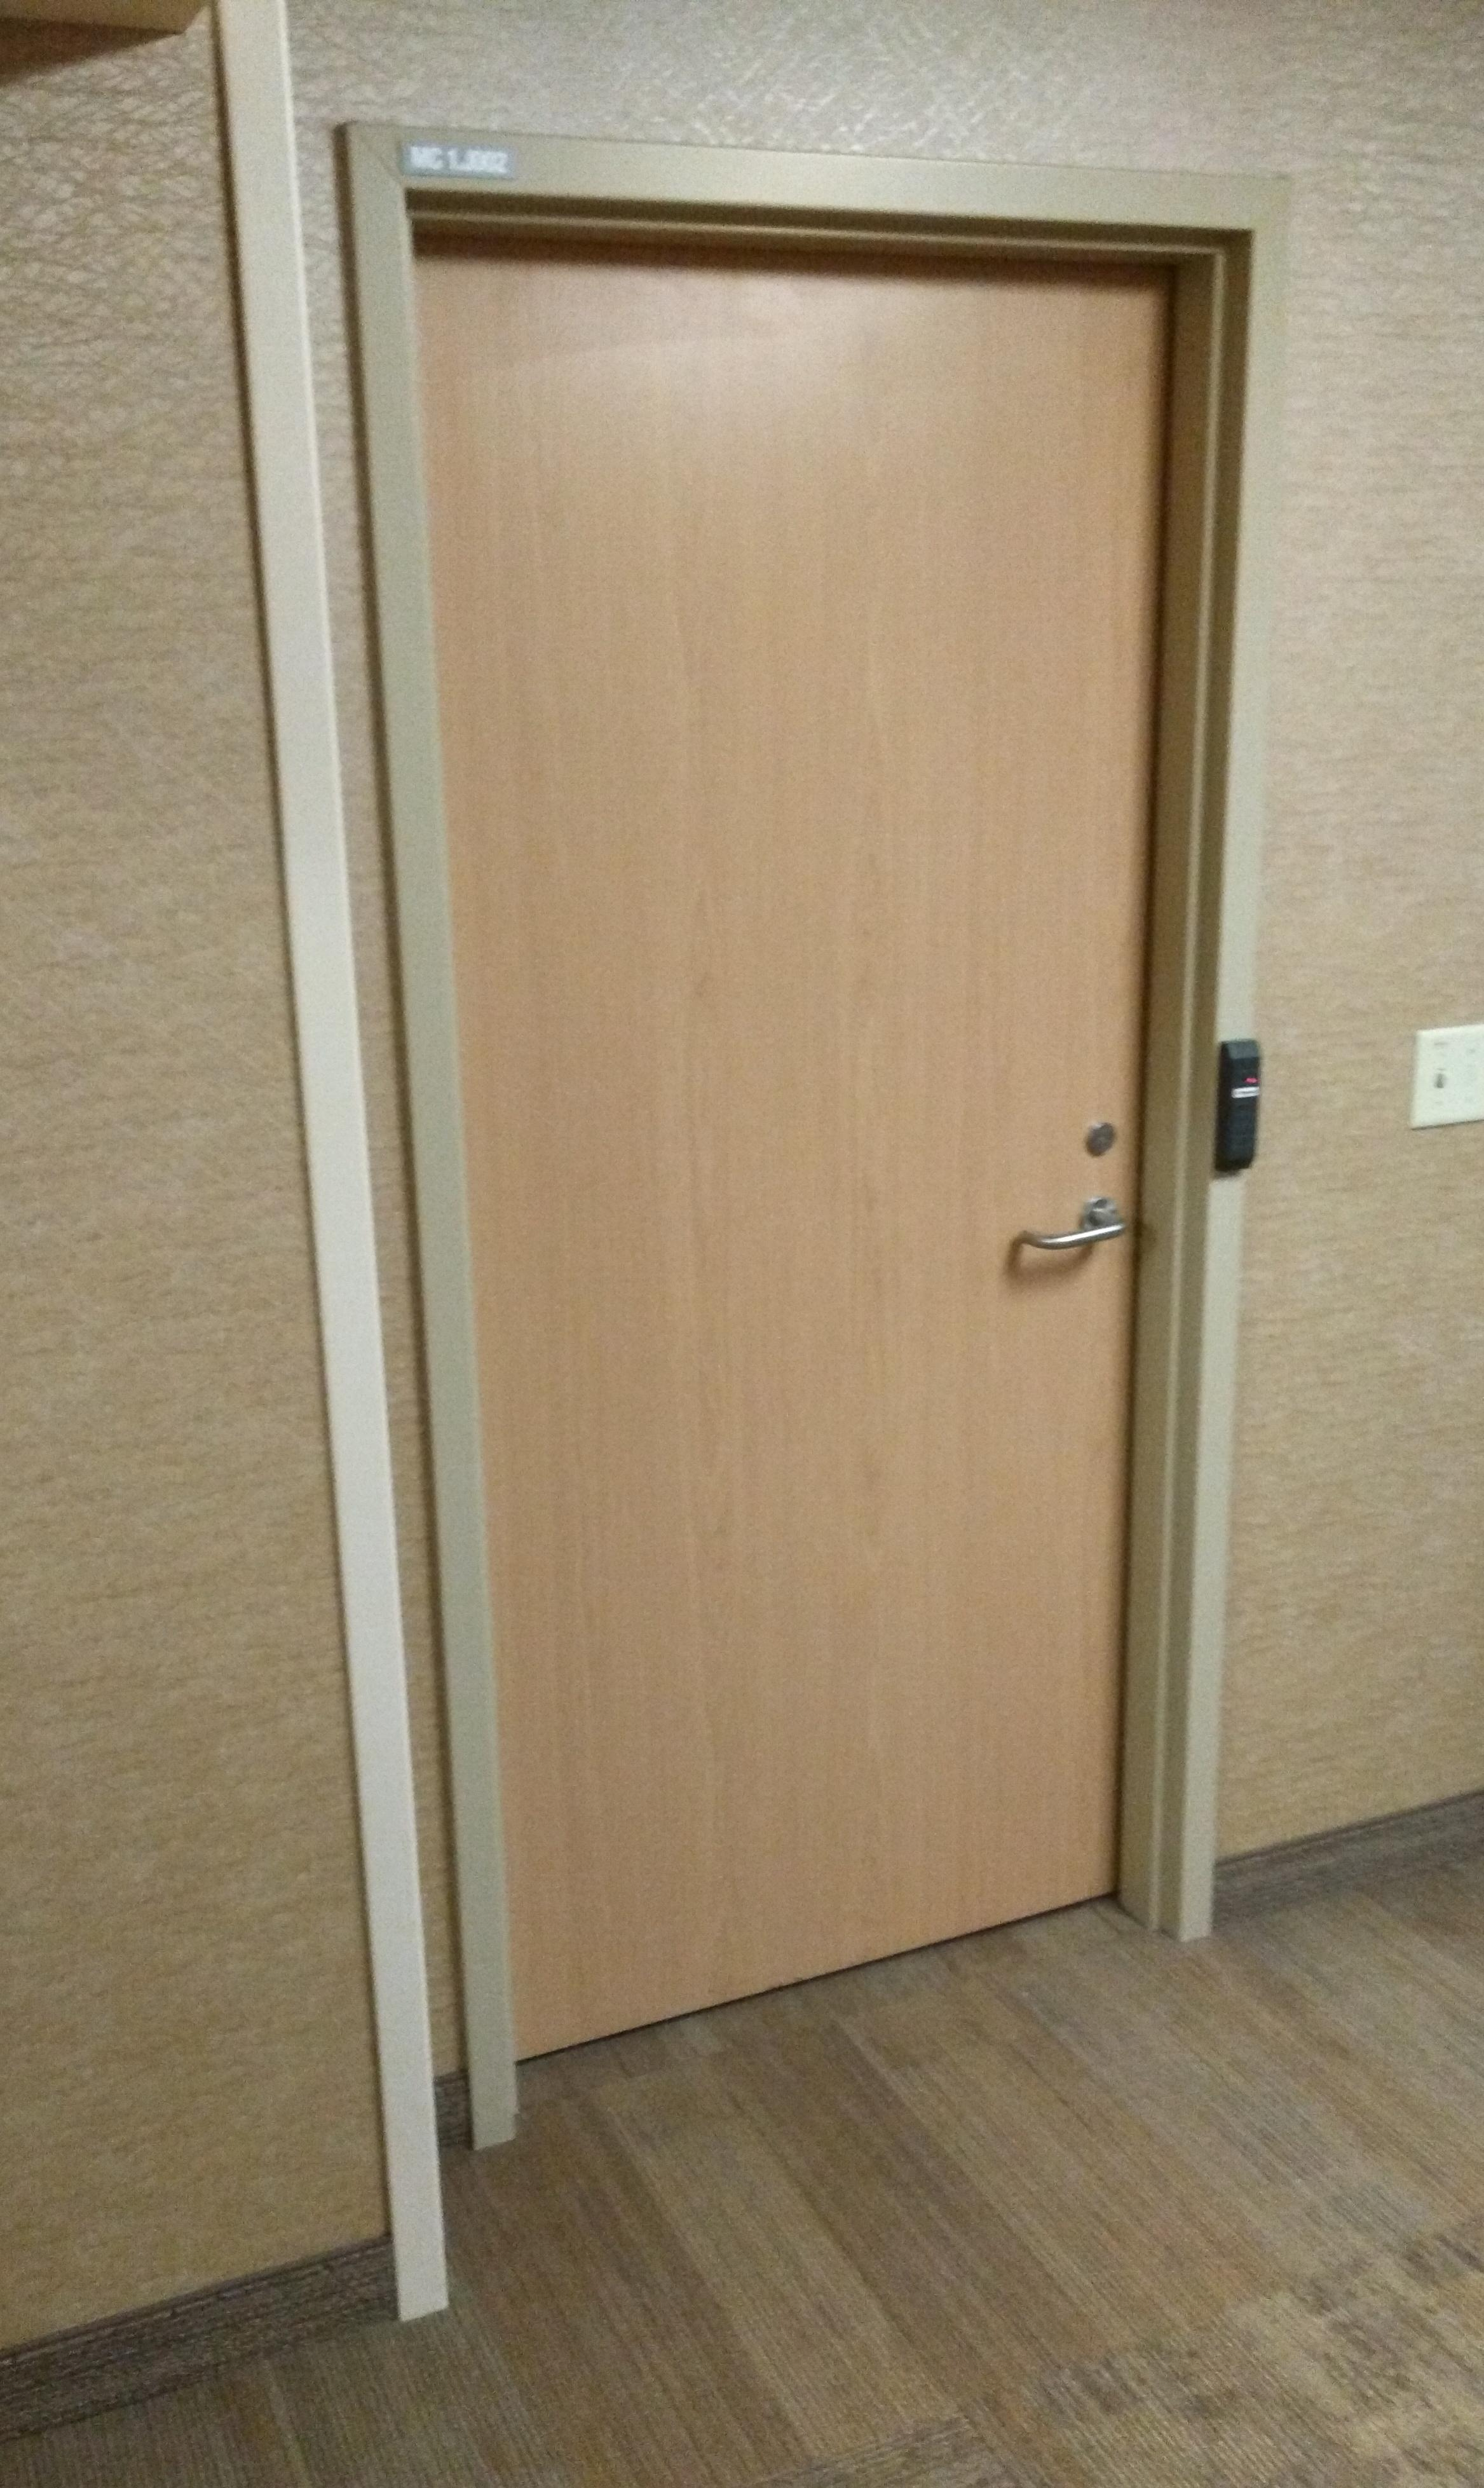handle: (1030, 1186, 1118, 1281)
